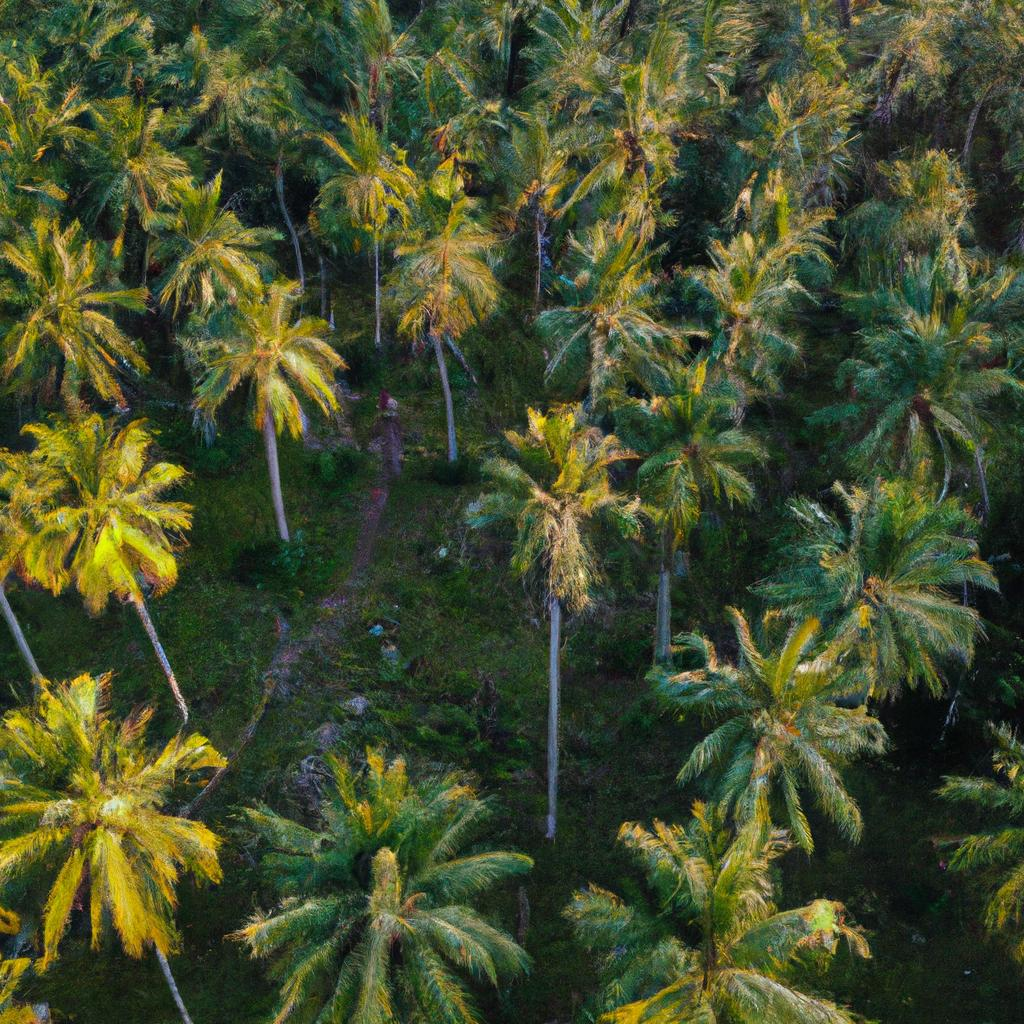coconut_tree: (219, 724, 545, 1023), (558, 823, 892, 1023), (0, 654, 205, 959), (643, 583, 877, 843), (762, 453, 997, 705), (0, 405, 226, 637), (459, 397, 645, 621), (0, 210, 143, 416), (191, 277, 358, 453), (380, 186, 523, 354)
